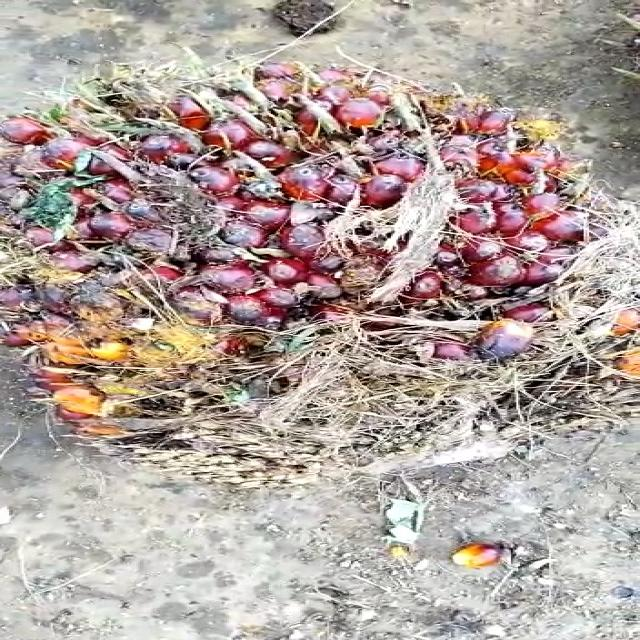palm oil: (0, 71, 640, 479)
